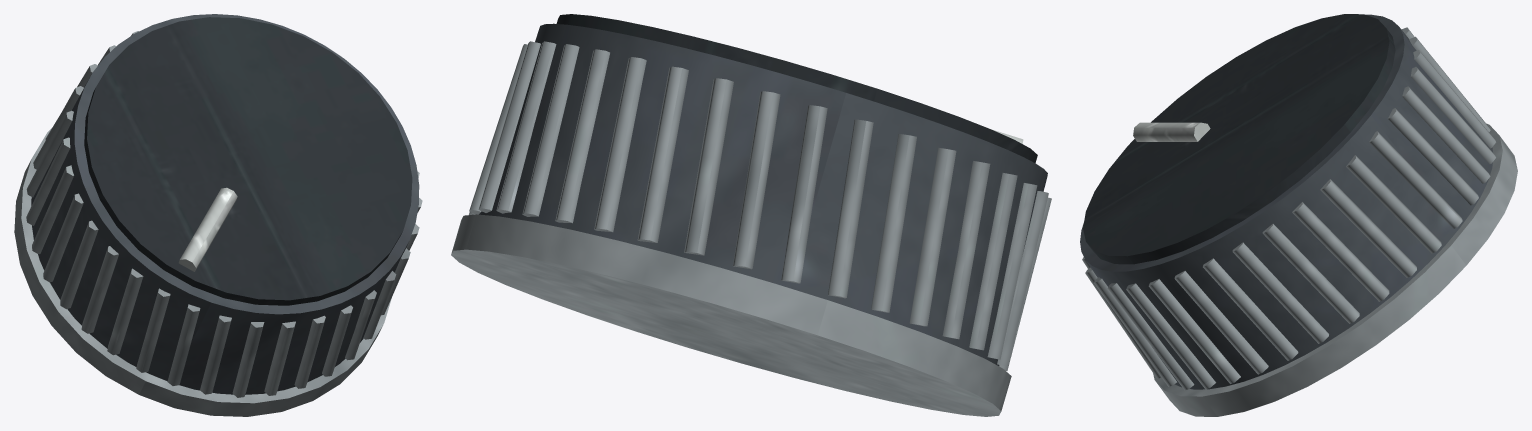
File: prop_panel_gain.fbx
3 renders of one model, left to right at view 1: azimuth 30°, elevation 25°; view 2: azimuth 150°, elevation 25°; view 3: azimuth 270°, elevation 25°, orthographic. The views are drawn at different scales.
Visible parts, largest first — view 1: SM_prop_panel_gain; view 2: SM_prop_panel_gain; view 3: SM_prop_panel_gain.
Part boxes in pixels (x1,y1,x2,y2): SM_prop_panel_gain: (14,14,422,416); SM_prop_panel_gain: (451,14,1051,416); SM_prop_panel_gain: (1080,14,1517,416).
Bounding box in the file's own units: 0.078 × 0.0697 × 0.0807.
Materials: 4 (4 with a texture image).
